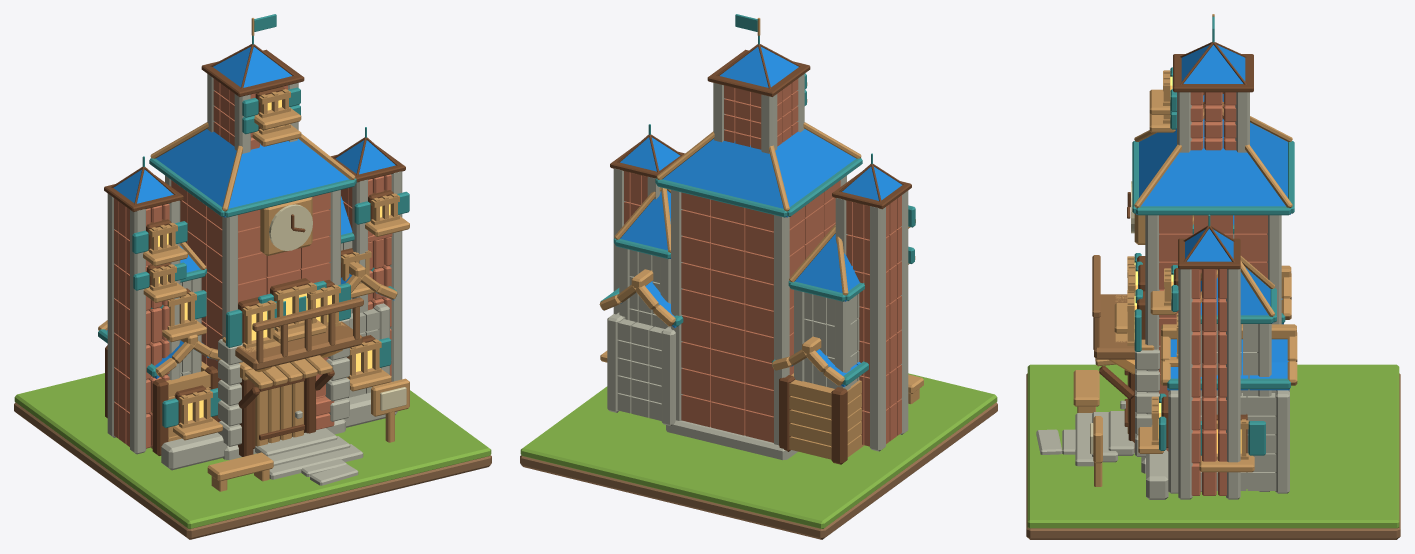
The model's file is town_hall_l11_active_LOD0.glb.
The picture shows the model from 3 angles, left to right: view 1: azimuth 30°, elevation 25°; view 2: azimuth 150°, elevation 25°; view 3: azimuth 270°, elevation 25°; orthographic projection. The views are drawn at different scales.
Visible parts, largest first — view 1: town_hall_l11_active_grass_tile, town_hall_l11_active_earth_tile, town_hall_l11_active_corner_reinforcement.024, town_hall_l11_active_hip_roof_shingle.002, town_hall_l11_active_hip_roof_shingle.011, town_hall_l11_active_premium_balcony_floor, town_hall_l11_active_corner_reinforcement.030, town_hall_l11_active_central_spire_roof_shingle, town_hall_l11_active_stone_foundation_course, town_hall_l11_active_corner_reinforcement.025, town_hall_l11_active_corner_reinforcement, town_hall_l11_active_hip_roof_shingle.001 (+36 smaller); view 2: town_hall_l11_active_grass_tile, town_hall_l11_active_earth_tile, town_hall_l11_active_corner_reinforcement.025, town_hall_l11_active_hip_roof_shingle.008, town_hall_l11_active_corner_reinforcement.001, town_hall_l11_active_hip_roof_shingle.011, town_hall_l11_active_corner_reinforcement.003, town_hall_l11_active_foundation, town_hall_l11_active_central_spire_roof_shingle, town_hall_l11_active_corner_reinforcement.024, town_hall_l11_active_hip_roof_shingle.007, town_hall_l11_active_corner_reinforcement.009 (+50 smaller); view 3: town_hall_l11_active_grass_tile, town_hall_l11_active_earth_tile, town_hall_l11_active_hip_roof_shingle.005, town_hall_l11_active_corner_reinforcement.030, town_hall_l11_active_corner_reinforcement.031, town_hall_l11_active_hip_roof_shingle.004, town_hall_l11_active_central_spire_roof_shingle, town_hall_l11_active_corner_reinforcement.002, town_hall_l11_active_premium_balcony_floor, town_hall_l11_active_eave_trim.001, town_hall_l11_active_corner_reinforcement.011, town_hall_l11_active_central_spire_cornice (+44 smaller).
Boxes of the visible parts, <box> form: town_hall_l11_active_grass_tile: <box>14,373,491,528</box>; town_hall_l11_active_earth_tile: <box>14,402,491,539</box>; town_hall_l11_active_corner_reinforcement.024: <box>130,209,146,454</box>; town_hall_l11_active_hip_roof_shingle.002: <box>224,156,348,217</box>; town_hall_l11_active_hip_roof_shingle.011: <box>156,141,230,217</box>; town_hall_l11_active_premium_balcony_floor: <box>235,321,362,370</box>; town_hall_l11_active_corner_reinforcement.030: <box>389,171,402,381</box>; town_hall_l11_active_central_spire_roof_shingle: <box>213,47,291,87</box>; town_hall_l11_active_stone_foundation_course: <box>161,432,227,470</box>; town_hall_l11_active_corner_reinforcement.025: <box>107,193,115,437</box>; town_hall_l11_active_corner_reinforcement: <box>222,215,238,445</box>; town_hall_l11_active_hip_roof_shingle.001: <box>236,139,319,175</box>; town_hall_l11_active_grass_tile: <box>520,373,997,528</box>; town_hall_l11_active_earth_tile: <box>520,402,997,539</box>; town_hall_l11_active_corner_reinforcement.025: <box>869,206,885,451</box>; town_hall_l11_active_hip_roof_shingle.008: <box>663,156,787,217</box>; town_hall_l11_active_corner_reinforcement.001: <box>773,215,789,445</box>; town_hall_l11_active_hip_roof_shingle.011: <box>781,141,855,217</box>; town_hall_l11_active_corner_reinforcement.003: <box>671,190,682,420</box>; town_hall_l11_active_foundation: <box>666,420,797,460</box>; town_hall_l11_active_central_spire_roof_shingle: <box>720,47,798,87</box>; town_hall_l11_active_corner_reinforcement.024: <box>899,191,908,434</box>; town_hall_l11_active_hip_roof_shingle.007: <box>692,139,775,175</box>; town_hall_l11_active_corner_reinforcement.009: <box>661,327,675,425</box>; town_hall_l11_active_grass_tile: <box>1027,364,1399,528</box>; town_hall_l11_active_earth_tile: <box>1026,373,1400,539</box>; town_hall_l11_active_hip_roof_shingle.005: <box>1136,175,1290,214</box>; town_hall_l11_active_corner_reinforcement.030: <box>1178,269,1192,499</box>; town_hall_l11_active_corner_reinforcement.031: <box>1226,268,1240,499</box>; town_hall_l11_active_hip_roof_shingle.004: <box>1163,139,1263,174</box>; town_hall_l11_active_central_spire_roof_shingle: <box>1181,45,1245,83</box>; town_hall_l11_active_corner_reinforcement.002: <box>1145,215,1159,457</box>; town_hall_l11_active_premium_balcony_floor: <box>1094,294,1134,359</box>; town_hall_l11_active_eave_trim.001: <box>1136,206,1290,215</box>; town_hall_l11_active_corner_reinforcement.011: <box>1275,390,1289,493</box>; town_hall_l11_active_central_spire_cornice: <box>1173,54,1253,92</box>.
Bounding box in the file's own units: 3.6 × 4.76 × 3.6.
